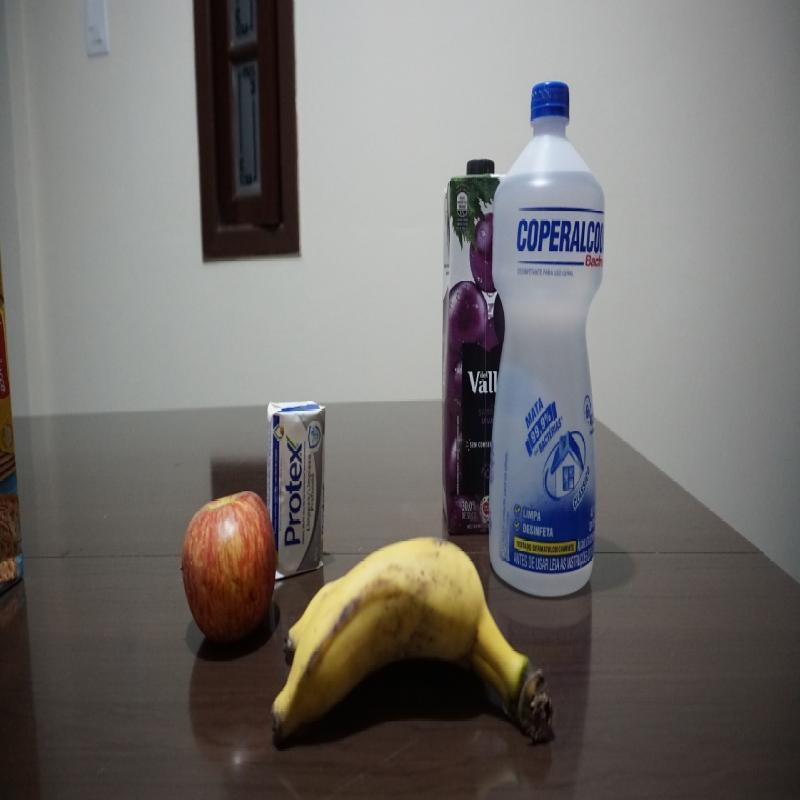Alcohol Bottle: (487, 80, 606, 599)
Apple: (181, 490, 279, 646)
Banana: (271, 536, 555, 747)
Cracker: (0, 259, 25, 594)
Soap: (266, 397, 328, 580)
